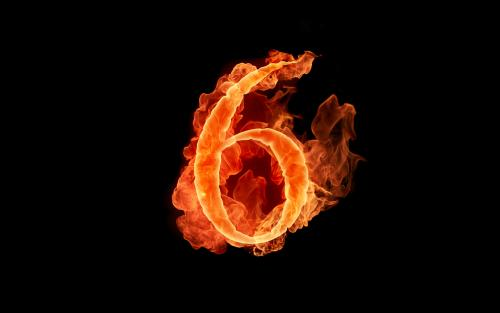fire: (225, 146, 284, 225)
